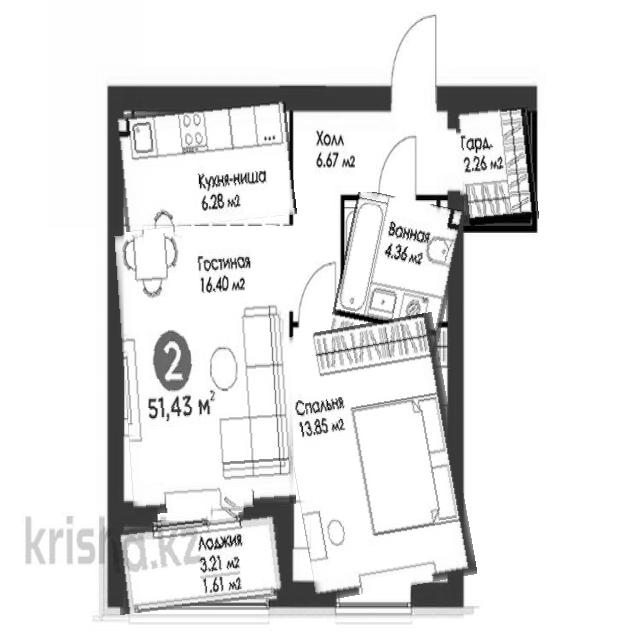balcony: (112, 512, 287, 610)
bathroom: (335, 194, 459, 352)
hallway: (294, 111, 456, 192)
kitchen: (118, 102, 294, 228)
living_room: (282, 318, 467, 596), (119, 227, 292, 513)
other: (454, 96, 536, 225)
